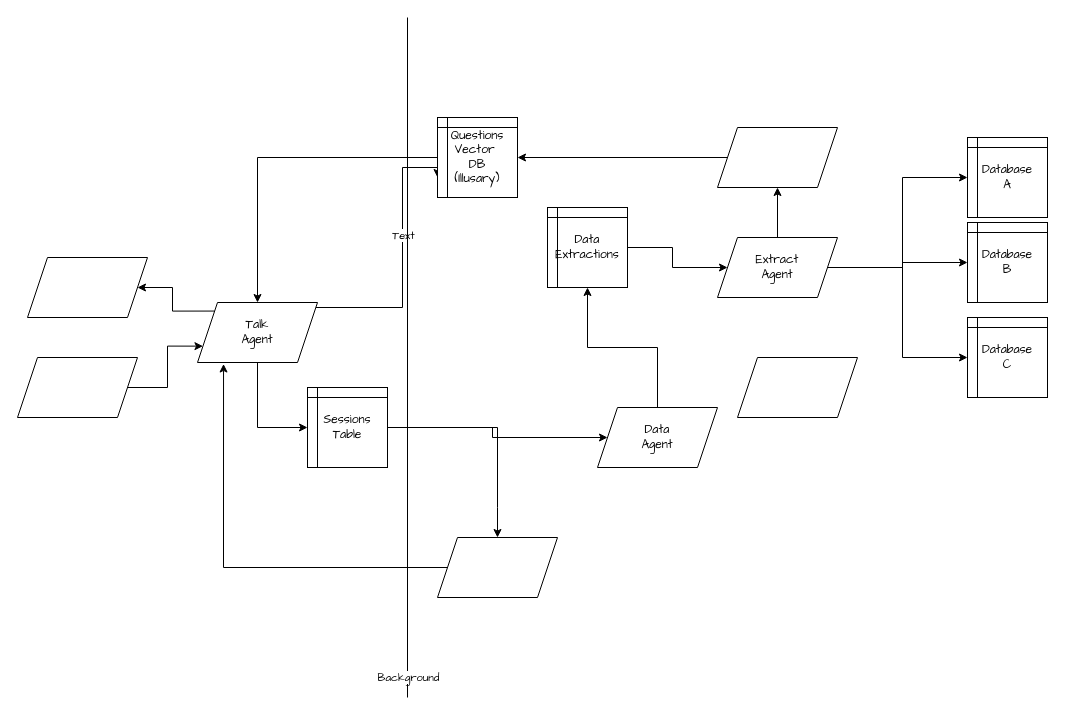
This 1065x716 diagram has some shape labels left out. The centre of each missing label's shape, as x and y in pixels:
Conflict (TRM) Agent: the point at 797,387
Guide Agent: the point at 497,567
Questions Agent: the point at 777,157
STT Agent: the point at 77,387
TTS Agent: the point at 87,287
